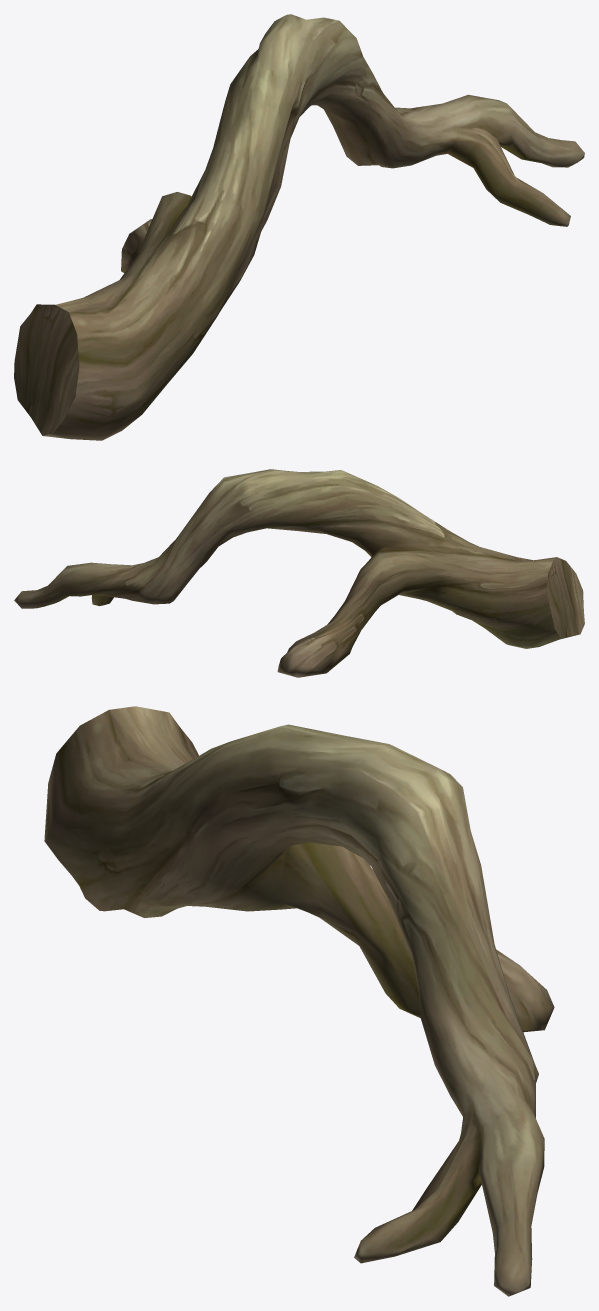
Rendered from Area_Xm_Stone_YTBL_Full_CaoShenGen_S_03.fbx.
The picture shows the model from 3 angles, top to bottom: view 1: azimuth 30°, elevation 25°; view 2: azimuth 150°, elevation 25°; view 3: azimuth 270°, elevation 25°; orthographic projection. The views are drawn at different scales.
Visible parts, largest first — view 1: Area_Xm_Stone_YTBL_Full_CaoShenGen_S_03_StoneTint_Lod0; view 2: Area_Xm_Stone_YTBL_Full_CaoShenGen_S_03_StoneTint_Lod0; view 3: Area_Xm_Stone_YTBL_Full_CaoShenGen_S_03_StoneTint_Lod0.
Boxes of the visible parts, <box> form: Area_Xm_Stone_YTBL_Full_CaoShenGen_S_03_StoneTint_Lod0: <box>14,14,584,440</box>; Area_Xm_Stone_YTBL_Full_CaoShenGen_S_03_StoneTint_Lod0: <box>14,469,584,677</box>; Area_Xm_Stone_YTBL_Full_CaoShenGen_S_03_StoneTint_Lod0: <box>44,706,554,1296</box>.
Bounding box in the file's own units: 22.65 × 8.14 × 10.85.
1 material, 1 textured.
